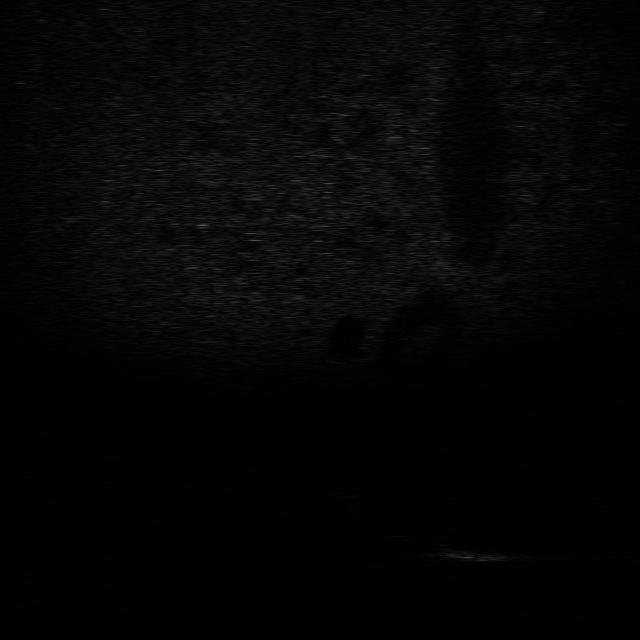ball: (327, 472, 372, 502)
metal bucket: (426, 540, 536, 567)
tyre: (379, 507, 455, 542)
